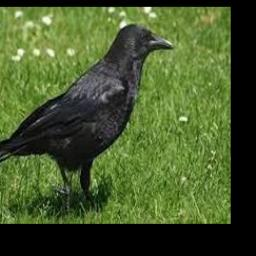Crow: (0, 24, 175, 209)
